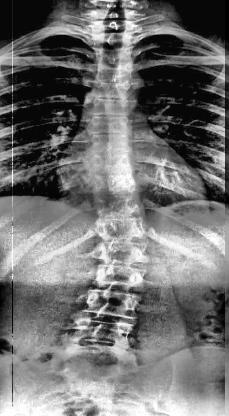Vertebrae: (68, 313, 136, 351), (82, 288, 142, 322), (93, 264, 149, 294), (93, 196, 147, 221), (95, 243, 149, 268), (94, 218, 148, 242), (92, 152, 136, 176), (91, 175, 138, 195), (88, 113, 130, 134), (89, 5, 139, 22), (92, 77, 134, 97), (90, 132, 132, 152), (89, 20, 138, 36), (93, 44, 136, 62), (90, 32, 138, 48), (95, 61, 137, 79), (91, 97, 132, 115)
